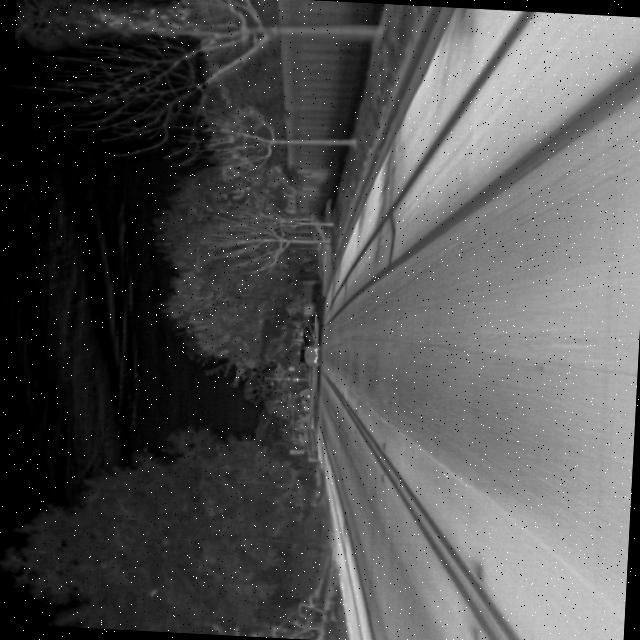Vehicle: (295, 342, 322, 369)
